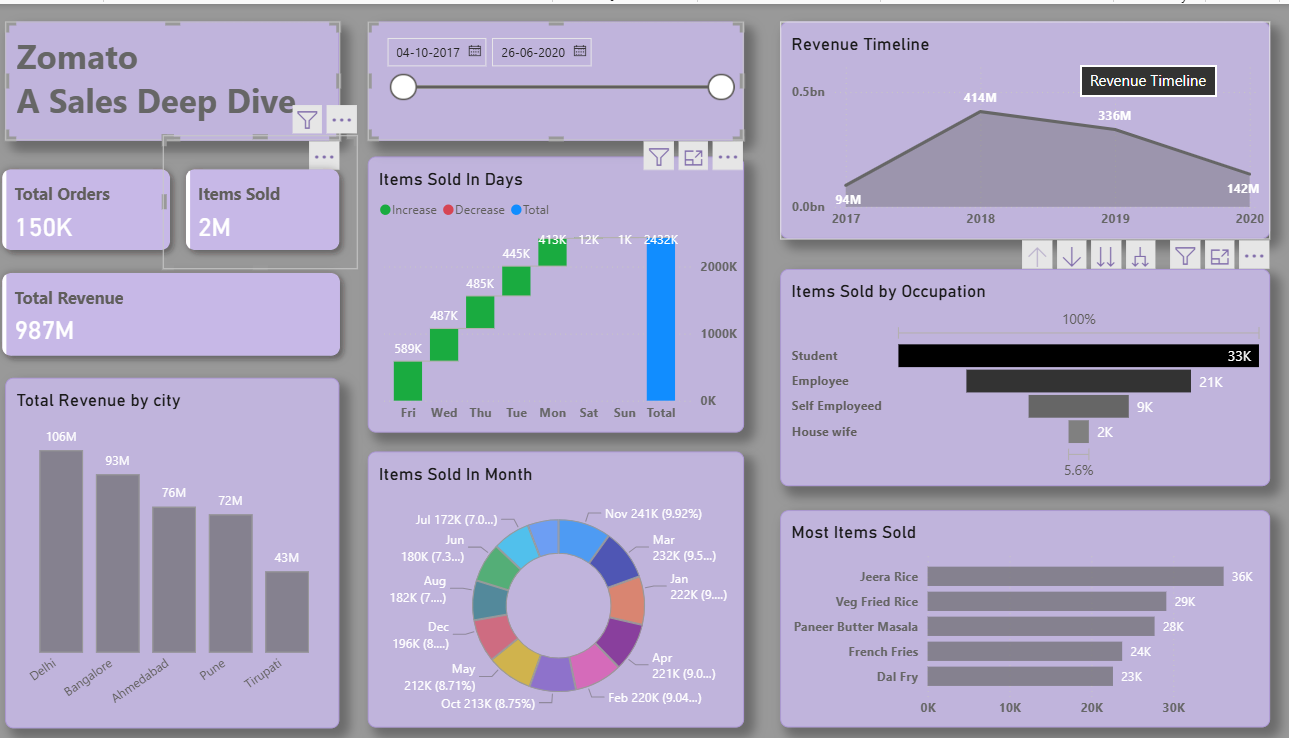

The page's visual inventory and layout, read from the dashboard file:
{"tool":"powerbi","page":{"name":"Page 1","canvas":[1280,720],"ordinal":0},"visuals":[{"type":"funnel","title":"Items Sold by Occupation","fields":{"Category":["users.Occupation"],"Y":["orders.Items Sold"]},"box":[772.8,255.6,472.8,209.9],"z":3},{"type":"clusteredBarChart","title":"Most Items Sold","fields":{"Category":["food.item"],"Y":["orders.Items Sold"]},"box":[772.8,488.9,472.8,209.9],"z":4},{"type":"lineChart","title":"Revenue Timeline","fields":{"Y":["orders.revenue"],"Category":["orders.order_date.Variation.Date Hierarchy.Year","orders.order_date.Variation.Date Hierarchy.Quarter","orders.order_date.Variation.Date Hierarchy.Month","orders.order_date.Variation.Date Hierarchy.Day"]},"box":[772.8,17.3,472.8,209.9],"z":5},{"type":"donutChart","title":"Items Sold In Month","fields":{"Category":["orders.Month Name"],"Y":["orders.Items Sold"]},"box":[375.3,432.1,363,266.7],"z":6},{"type":"waterfallChart","title":"Items Sold In Days","fields":{"Category":["orders.Day Name"],"Y":["orders.Items Sold"]},"box":[375.3,146.9,363,266.7],"z":7},{"type":"columnChart","fields":{"Category":["restaurant.city"],"Y":["orders.Total Revenue"]},"box":[25.9,360.5,322.2,338.3],"z":8},{"type":"cardVisual","fields":{"Data":["orders.Total Orders"]},"box":[0,127.2,201.2,128.4],"z":9},{"type":"cardVisual","fields":{"Data":["orders.Items Sold"]},"box":[177.8,127.2,187.7,128.4],"z":10},{"type":"cardVisual","fields":{"Data":["orders.Total Revenue"]},"box":[0,227.2,365.4,130.9],"z":11},{"type":"slicer","fields":{"Values":["orders.order_date"]},"box":[375.3,17.3,363,114.8],"z":12},{"type":"textbox","box":[25.9,17.3,322.2,114.8],"z":13}]}

Visuals, with their boxes in screenshot pixels (x1, y1, x2, y2), scaled from the page's 1280x720 canvas onto the 1289x738 screenshot:
"Items Sold by Occupation" funnel: 778/262/1254/477
"Most Items Sold" clusteredBarChart: 778/501/1254/716
"Revenue Timeline" lineChart: 778/18/1254/233
"Items Sold In Month" donutChart: 378/443/743/716
"Items Sold In Days" waterfallChart: 378/151/743/424
columnChart - restaurant.city x orders.Total Revenue: 26/370/351/716
cardVisual - orders.Total Orders: 0/130/203/262
cardVisual - orders.Items Sold: 179/130/368/262
cardVisual - orders.Total Revenue: 0/233/368/367
slicer - orders.order_date: 378/18/743/135
textbox: 26/18/351/135
